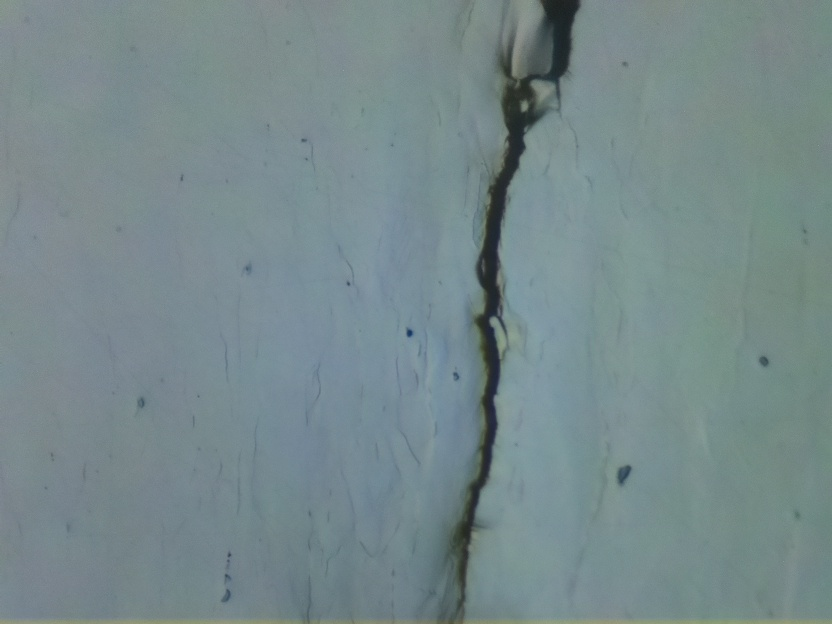crack: (451, 0, 579, 600)
